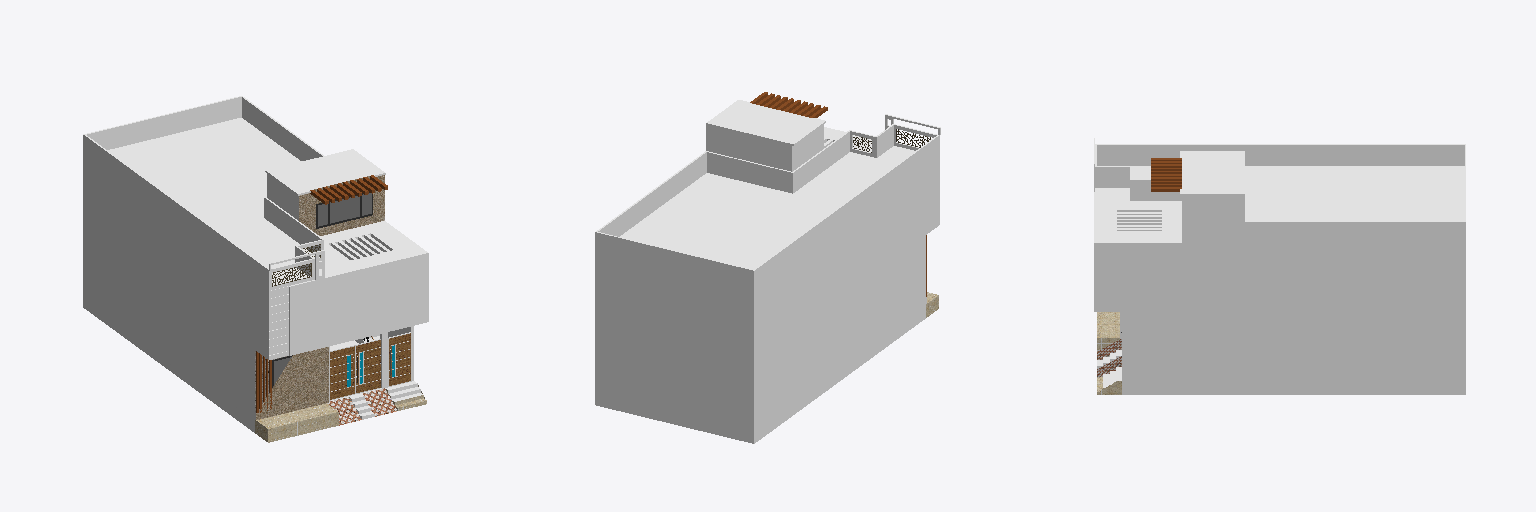
The picture shows the model from 3 angles: view 1: azimuth 30°, elevation 25°; view 2: azimuth 150°, elevation 25°; view 3: azimuth 270°, elevation 25°; orthographic projection.
Visible parts, largest first — view 1: Mesh176 Group1 Model, Mesh101 Group100 Group1 Model, Mesh100 Group100 Group1 Model, Mesh61 Group65 Group1 Model; view 2: Mesh176 Group1 Model; view 3: Mesh176 Group1 Model.
Part boxes in pixels (x1,y1,x2,y2): Mesh176 Group1 Model: (83, 96, 428, 442); Mesh101 Group100 Group1 Model: (355, 339, 380, 393); Mesh100 Group100 Group1 Model: (330, 345, 354, 400); Mesh61 Group65 Group1 Model: (388, 332, 410, 386); Mesh176 Group1 Model: (595, 100, 940, 443); Mesh176 Group1 Model: (1094, 138, 1465, 394).
Size of the model in its own units: 288 by 348 by 585.
Materials: 18 (8 with a texture image).